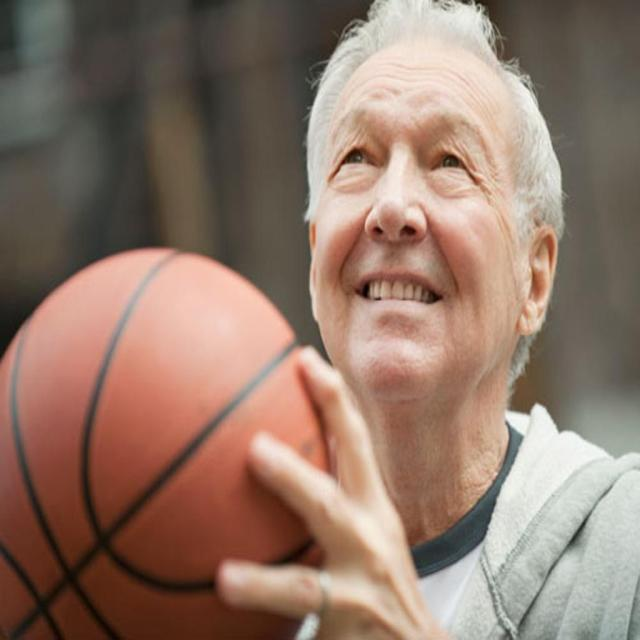Face: (303, 47, 550, 345)
